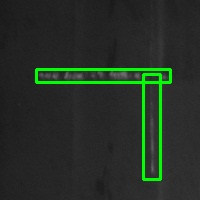scratches: (143, 74, 160, 179), (37, 69, 170, 82)
